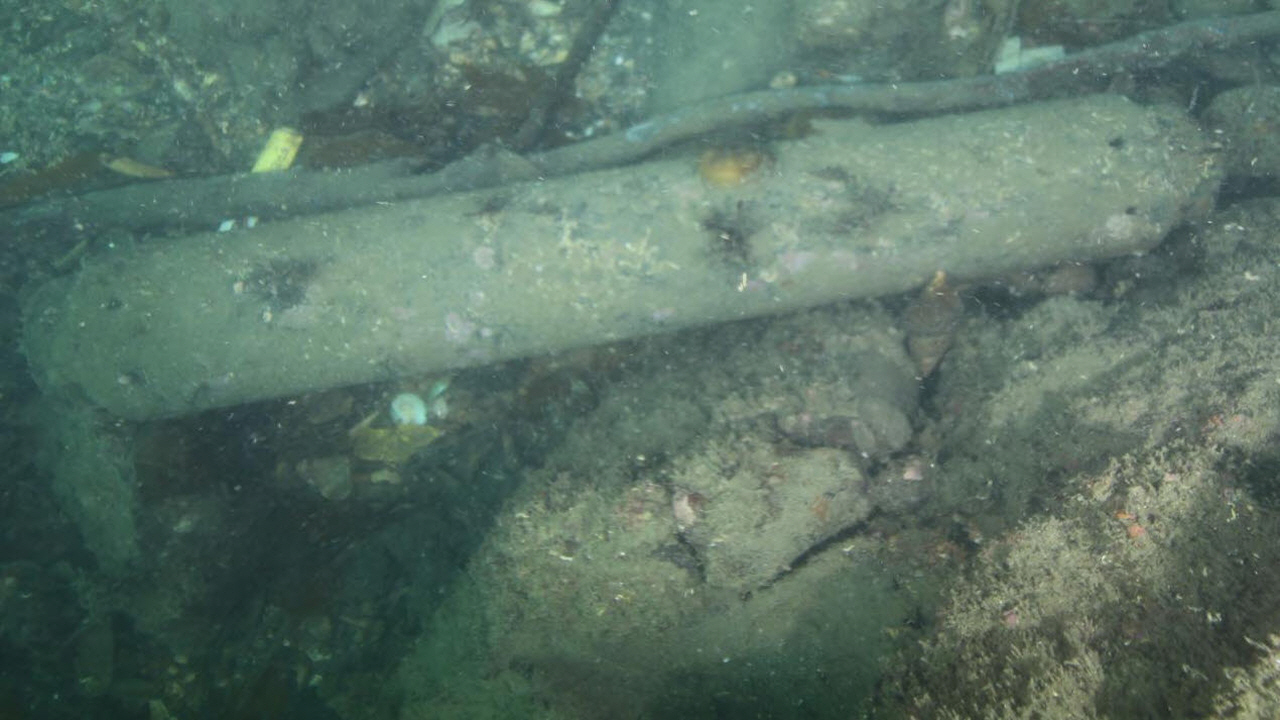eel fish trap: (20, 90, 1226, 421)
